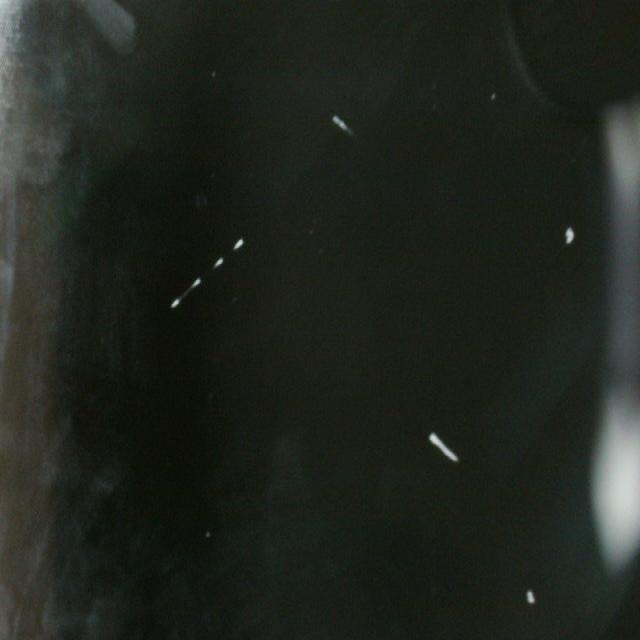scratch: (165, 228, 250, 317), (424, 425, 464, 467), (326, 105, 355, 143)
very small scratch: (560, 222, 576, 252), (524, 584, 538, 614)
